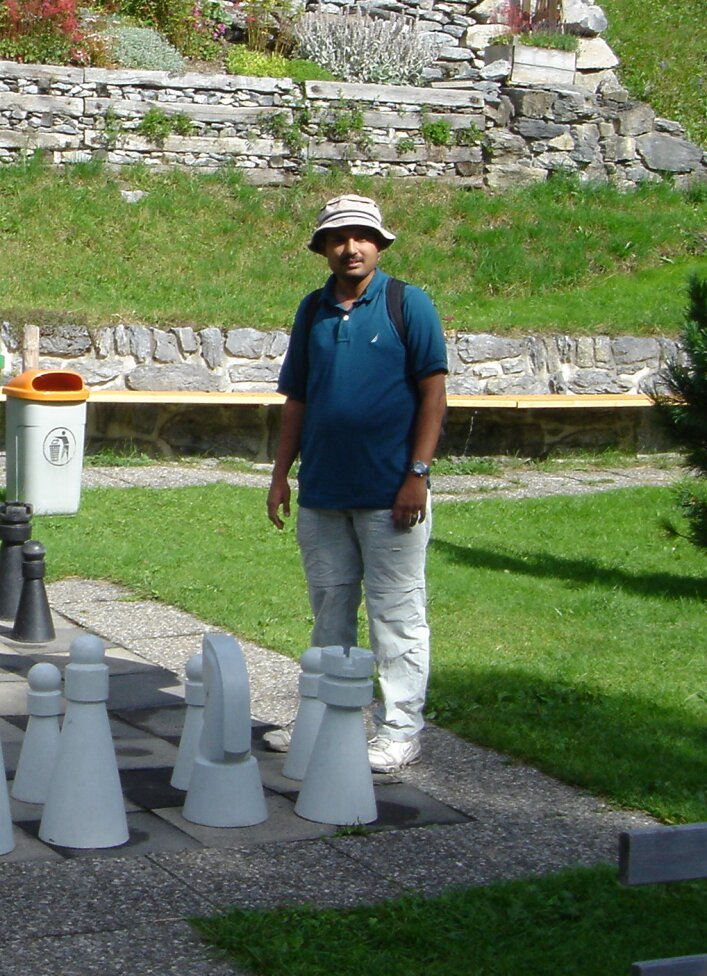person: (258, 193, 457, 778)
